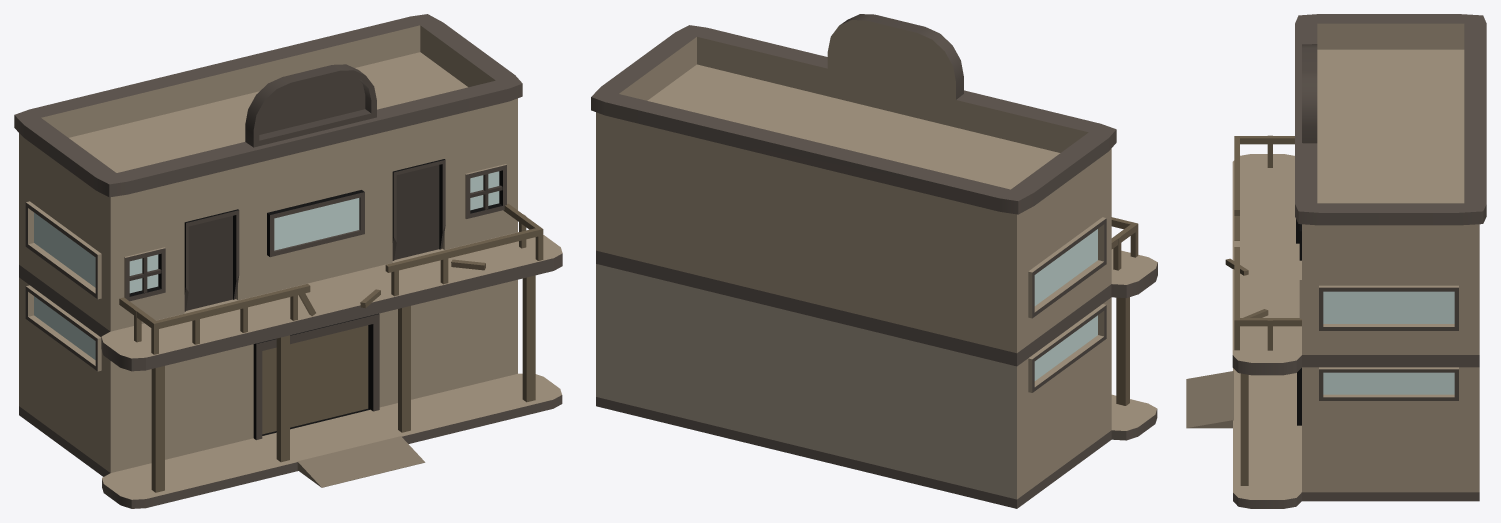
Rendered from casita3.fbx.
The picture shows the model from 3 angles, left to right: view 1: azimuth 30°, elevation 25°; view 2: azimuth 150°, elevation 25°; view 3: azimuth 270°, elevation 25°; orthographic projection. The views are drawn at different scales.
Parts seen in each view (by area): view 1: Casita3; view 2: Casita3; view 3: Casita3.
Part boxes in pixels (x1=…): Casita3: x1=14, y1=14, x2=562, y2=508; Casita3: x1=591, y1=14, x2=1157, y2=508; Casita3: x1=1186, y1=14, x2=1486, y2=508.
Bounding box in the file's own units: 21.94 × 16.92 × 13.32.
